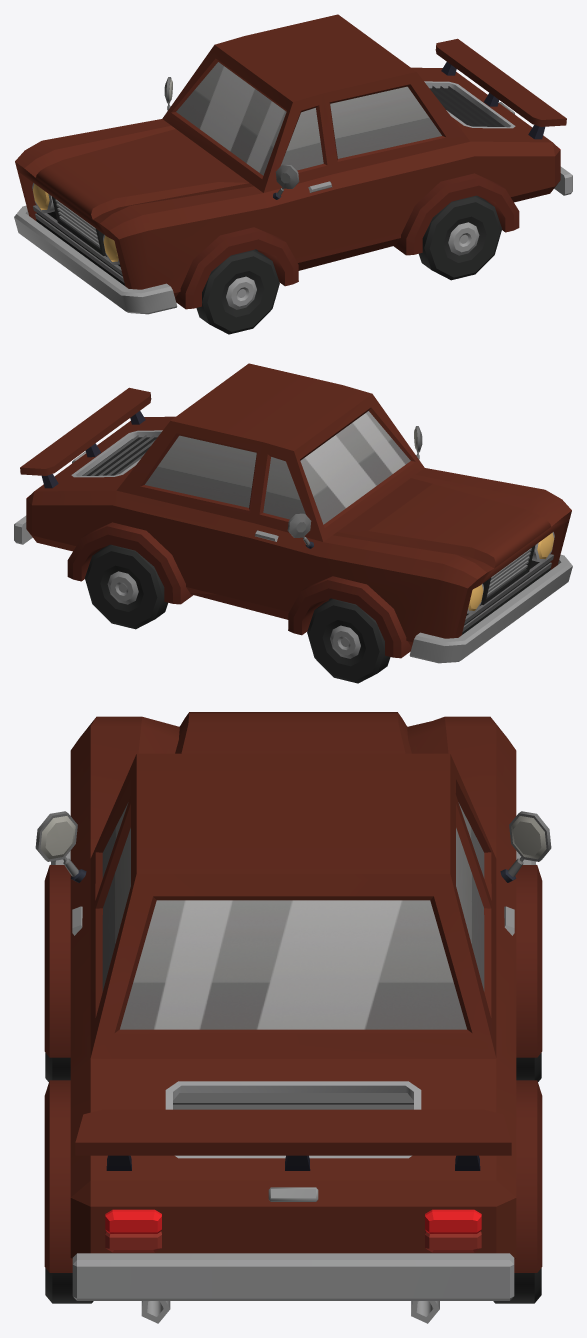
File: Car_9_P.gltf
The picture shows the model from 3 angles, top to bottom: view 1: azimuth 30°, elevation 25°; view 2: azimuth 150°, elevation 25°; view 3: azimuth 270°, elevation 25°; orthographic projection. The views are drawn at different scales.
Parts seen in each view (by area): view 1: Car_9_P, RL, FL; view 2: Car_9_P, RR, FR; view 3: Car_9_P, RL, RR.
Part boxes in pixels (x1,y1,x2,y2): Car_9_P: [14, 14, 572, 314]; RL: [419, 195, 501, 280]; FL: [196, 249, 279, 334]; Car_9_P: [14, 363, 572, 663]; RR: [85, 544, 167, 629]; FR: [307, 598, 390, 683]; Car_9_P: [35, 712, 551, 1323]; RL: [45, 1268, 93, 1303]; RR: [493, 1268, 541, 1303].
Size of the model in its own units: 3.1 by 1.28 by 1.51.
Materials: 4 (4 with a texture image).
